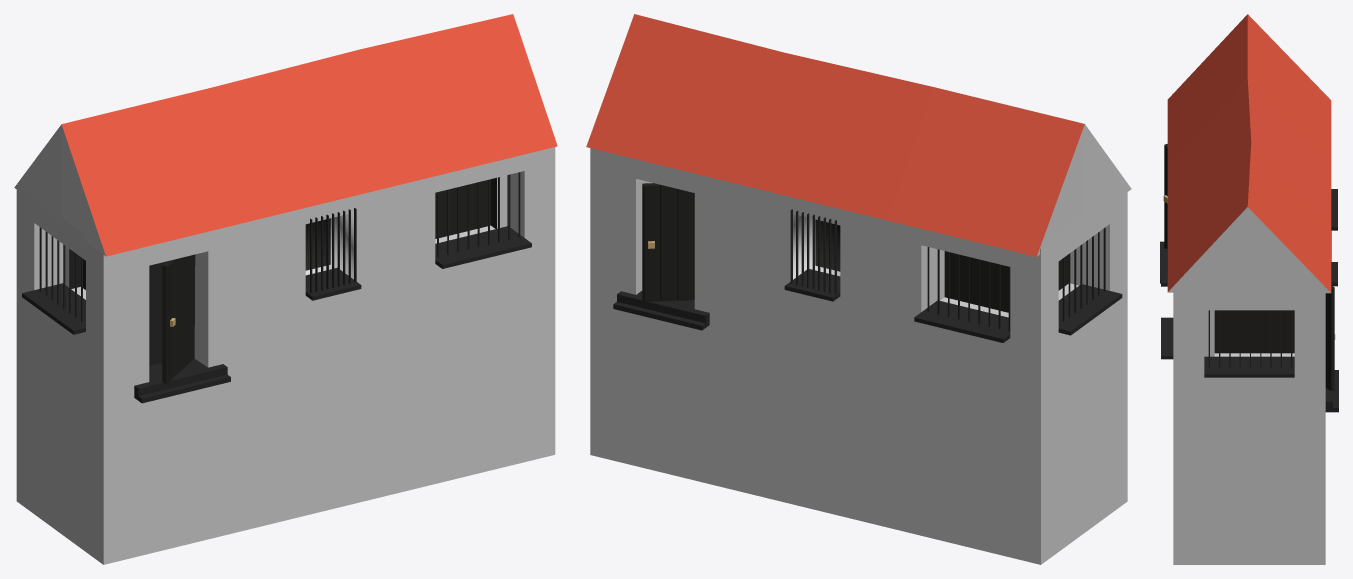
File: casa procedural_relleno_Con sotano.fbx
3 views of the same model, side by side, from view 1: azimuth 30°, elevation 25°; view 2: azimuth 150°, elevation 25°; view 3: azimuth 270°, elevation 25° (orthographic). The views are drawn at different scales.
Visible parts, largest first — view 1: Procedural_Building_straight.001; view 2: Procedural_Building_straight.001; view 3: Procedural_Building_straight.001.
Boxes of the visible parts, x1,y1,x2,y2 form: Procedural_Building_straight.001: (14,14,557,564); Procedural_Building_straight.001: (586,14,1131,564); Procedural_Building_straight.001: (1160,14,1338,564).
Size of the model in its own units: 316 by 260 by 118.
